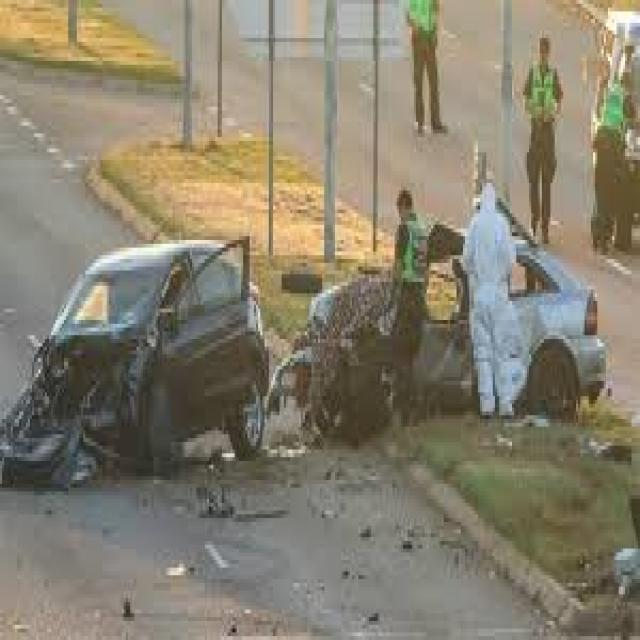accident: (36, 175, 600, 455), (26, 242, 278, 512)
